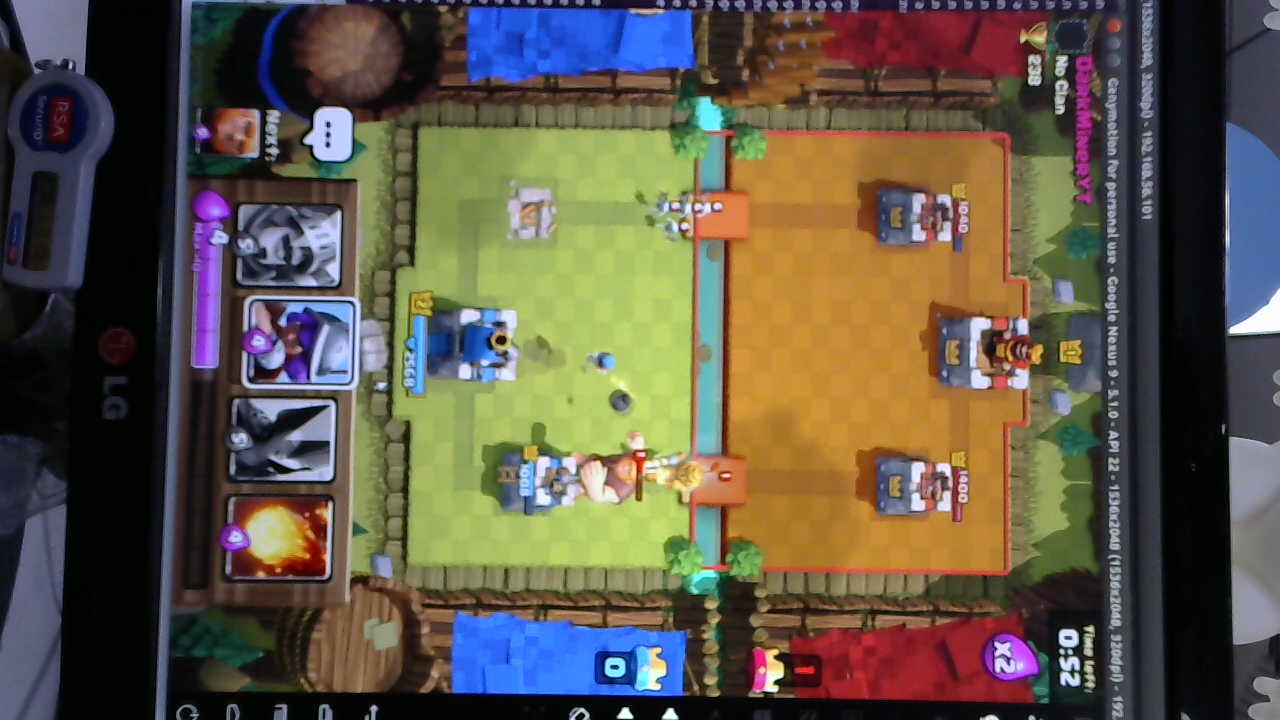arena: (496, 443, 580, 516)
bomb: (577, 342, 620, 377)
darena: (504, 182, 554, 244)
earena: (871, 450, 956, 523), (869, 186, 953, 250)
eking: (934, 312, 1038, 394)
giant: (556, 432, 650, 507)
king: (427, 303, 522, 389)
prince: (646, 448, 719, 495)
skeleton: (653, 194, 726, 240)
